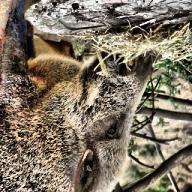boar: (0, 1, 158, 192)
